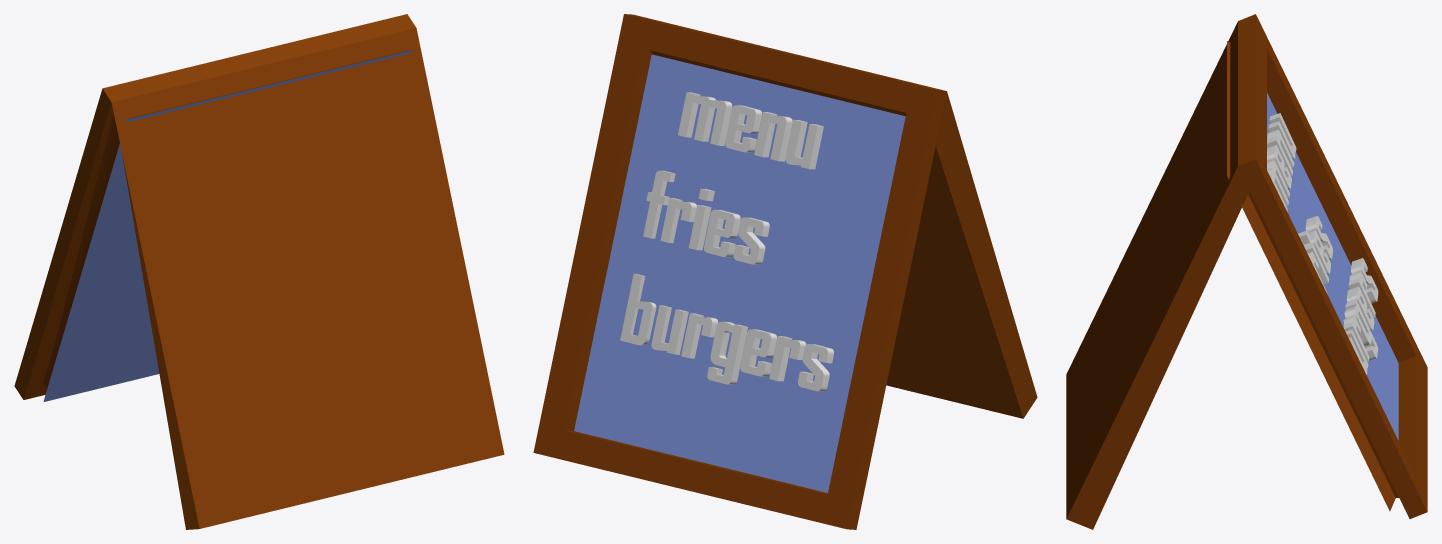
Rendered from shoplittlesign.fbx.
3 views of the same model, side by side, from view 1: azimuth 30°, elevation 25°; view 2: azimuth 150°, elevation 25°; view 3: azimuth 270°, elevation 25° (orthographic). The views are drawn at different scales.
Parts seen in each view (by area): view 1: shoplittlesign; view 2: shoplittlesign; view 3: shoplittlesign.
Boxes of the visible parts, x1,y1,x2,y2 form: shoplittlesign: (14,14,504,529); shoplittlesign: (533,14,1037,529); shoplittlesign: (1066,14,1427,529).
Bounding box in the file's own units: 115 × 138 × 121.
